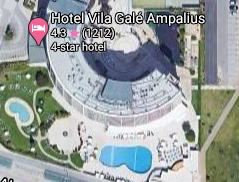pool: (101, 144, 153, 174), (9, 100, 30, 124)
